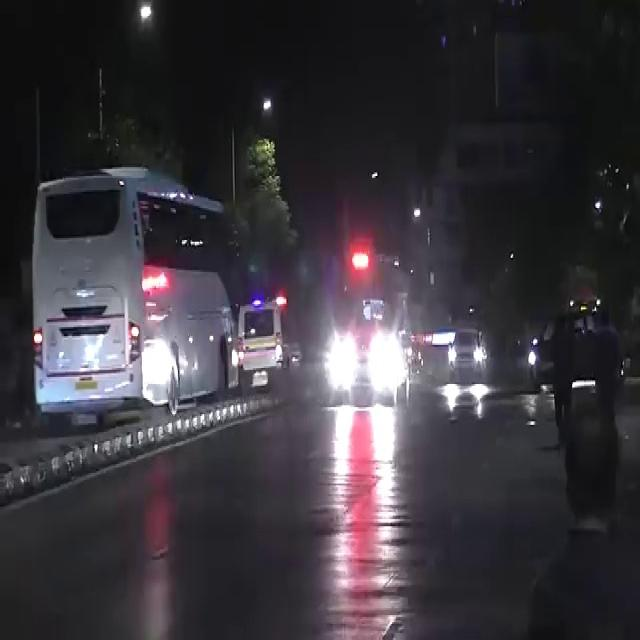ambulance: (332, 239, 414, 416)
